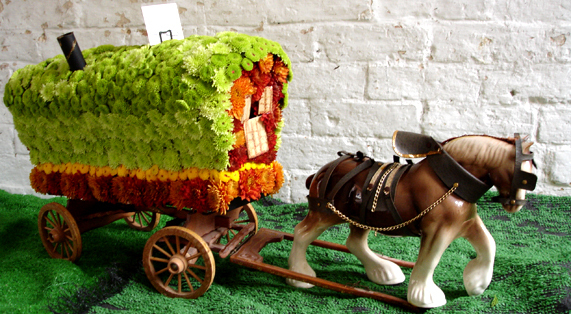background: (287, 131, 539, 310)
